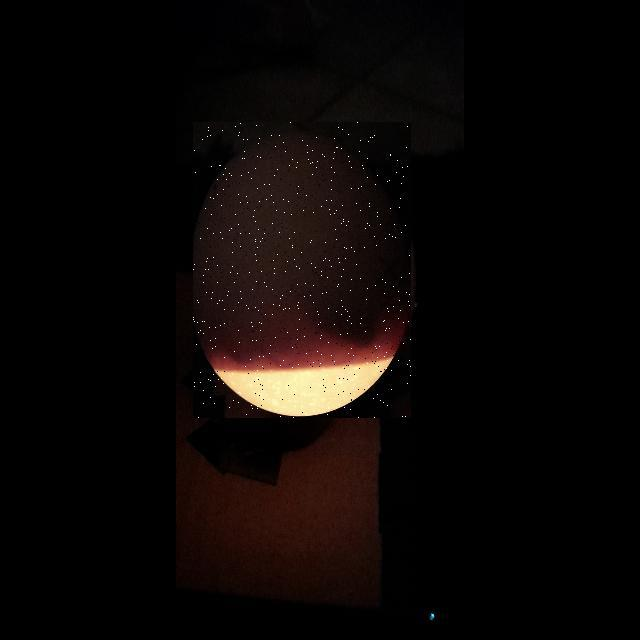Fertile: (193, 122, 411, 418)
